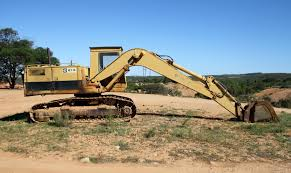excavator: (22, 38, 279, 126)
